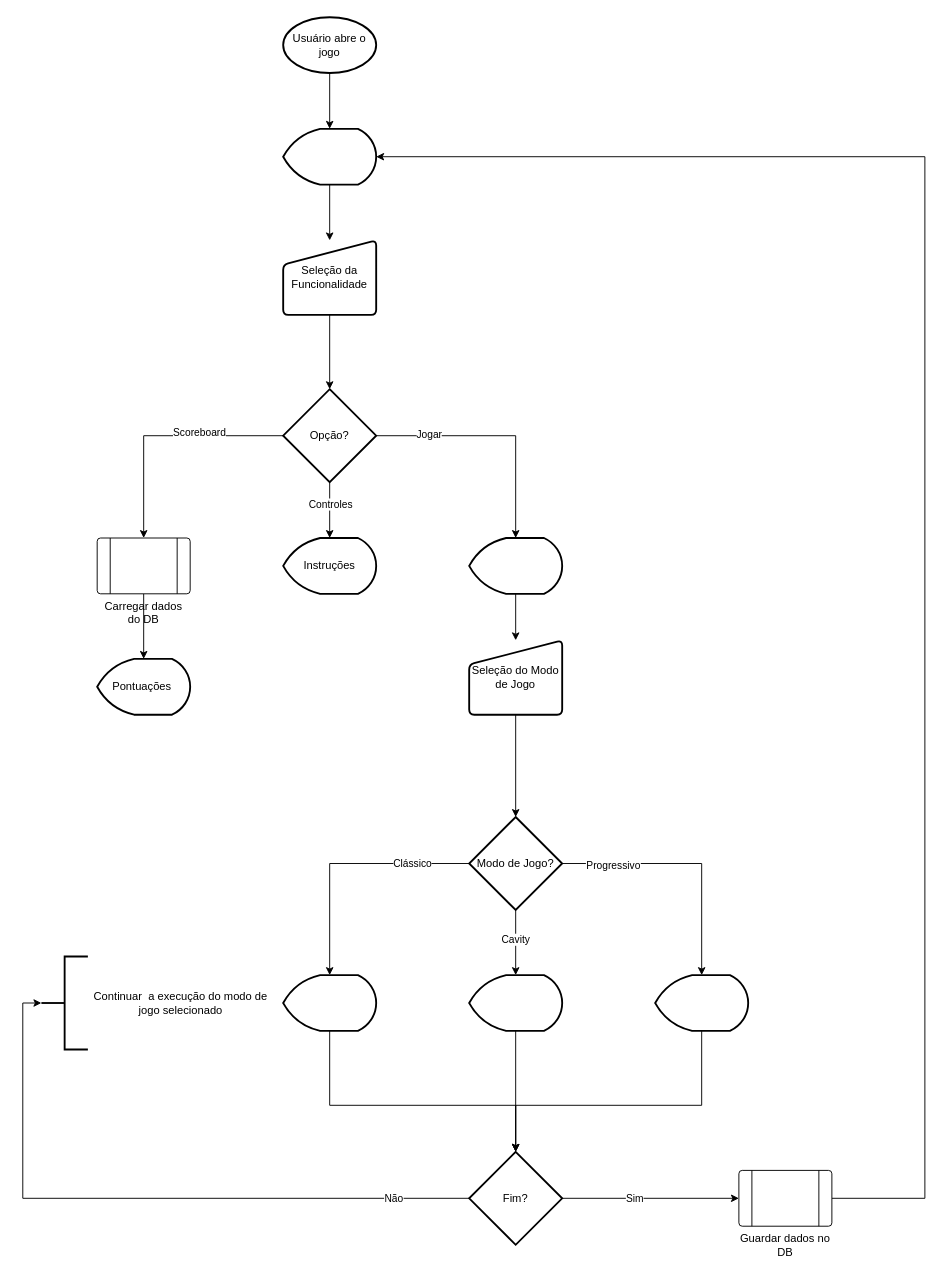
Some shapes in this 949 by 1275 pixel diagram are drawn without their labels. Here are the shapes that lost their labels. From the top down, the centre of each, then its label:
At point (329, 156): "Menu".
At point (515, 565): "Modos de Jogo".
At point (329, 1002): "Modo Clássico".
At point (515, 1002): "Modo Cavity".
At point (701, 1002): "Modo Progressivo".
